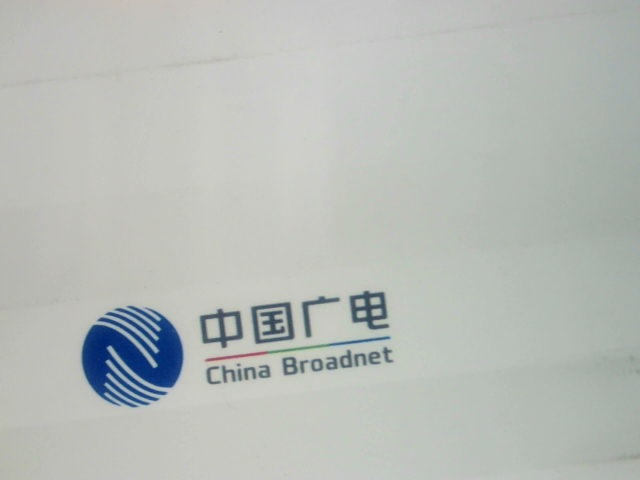AW_ChinaBroadNet: (78, 293, 417, 408)
